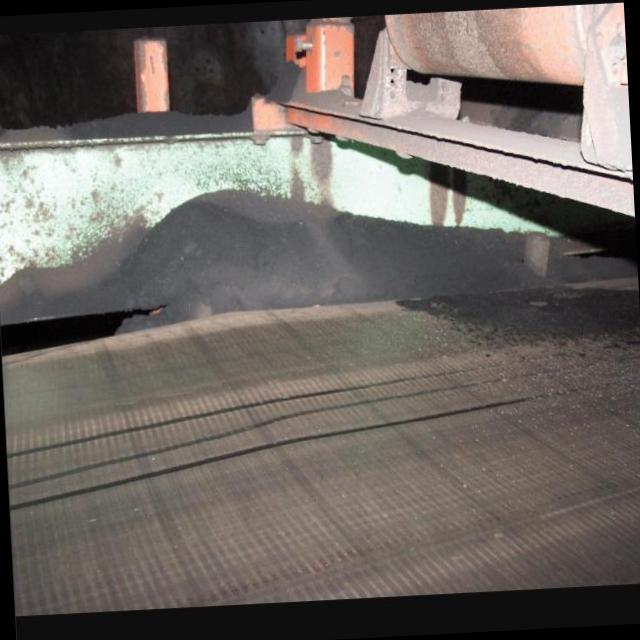Tear: (9, 391, 530, 514), (9, 370, 515, 492), (2, 365, 468, 459)
